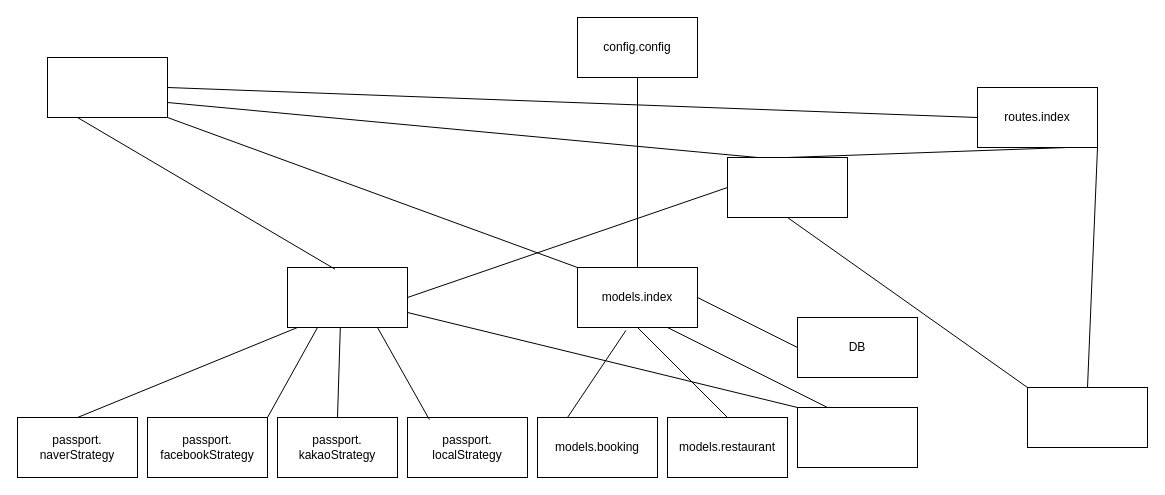
The diagram is 1165 pixels wide and 495 high, and some of its shapes have lost their labels. The shapes that lost their labels are listed below. From the top down, each one's centre as x and y in pixels, then its label:
[107,87]: restaurant
[787,187]: routes.auth
[347,297]: passport.index
[857,437]: models.user
[1087,417]: routes.middlewares
